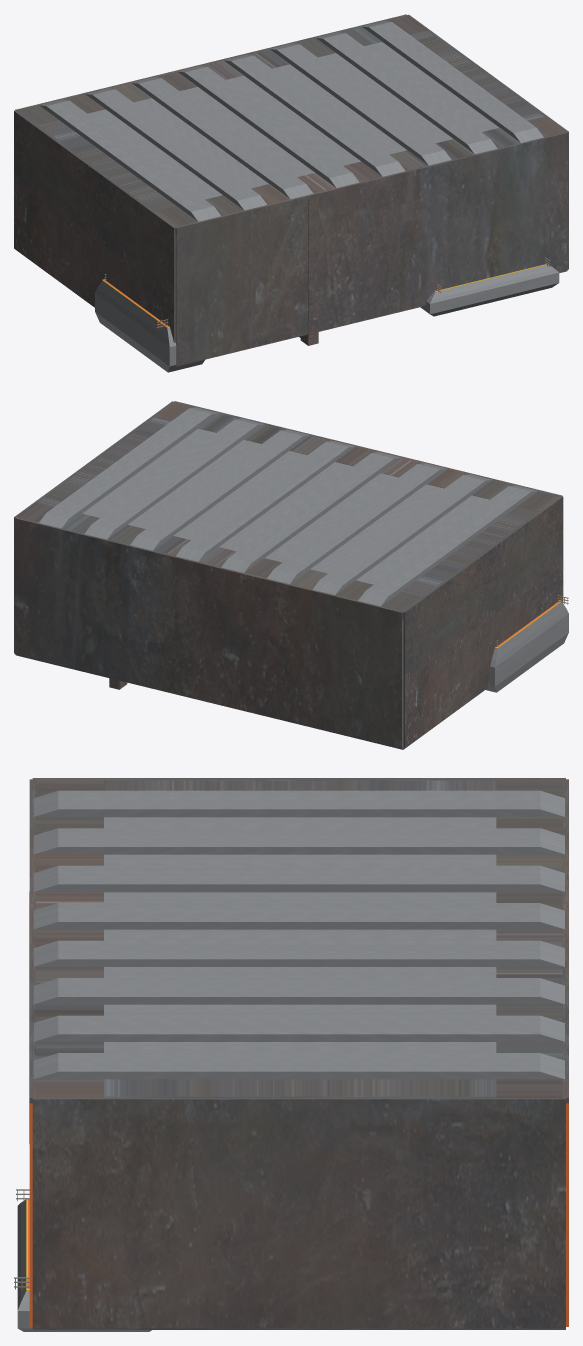
Rendered from biome_interior.fbx.
The picture shows the model from 3 angles, top to bottom: view 1: azimuth 30°, elevation 25°; view 2: azimuth 150°, elevation 25°; view 3: azimuth 270°, elevation 25°; orthographic projection. The views are drawn at different scales.
Parts seen in each view (by area): view 1: Wall_3, Roof, Wall_2, Wall_4, Platform12, Platform1, Wall_1, Wall_separation1; view 2: Wall_4, Roof, Wall_2, Wall_3, Platform12, Wall_1, Ground; view 3: Roof, Wall_1, Wall_3, Wall_4, Wall_2, Platform1, Ground.
Boxes of the visible parts, left/top/right/bottom form: Wall_3: left=154, top=116, right=568, bottom=365; Roof: left=39, top=21, right=543, bottom=221; Wall_2: left=14, top=110, right=176, bottom=342; Wall_4: left=14, top=14, right=427, bottom=125; Platform12: left=95, top=279, right=205, bottom=372; Platform1: left=420, top=264, right=559, bottom=316; Wall_1: left=408, top=14, right=568, bottom=269; Wall_separation1: left=299, top=196, right=318, bottom=345; Wall_4: left=14, top=502, right=423, bottom=748; Roof: left=39, top=407, right=537, bottom=606; Wall_2: left=401, top=496, right=563, bottom=748; Wall_3: left=153, top=401, right=562, bottom=511; Platform12: left=485, top=600, right=568, bottom=692; Wall_1: left=14, top=401, right=173, bottom=653; Ground: left=16, top=654, right=468, bottom=749; Roof: left=33, top=790, right=564, bottom=1079; Wall_1: left=32, top=1079, right=565, bottom=1328; Wall_3: left=29, top=779, right=103, bottom=1326; Wall_4: left=496, top=779, right=568, bottom=1326; Wall_2: left=32, top=778, right=565, bottom=790; Platform1: left=17, top=1199, right=151, bottom=1331; Ground: left=32, top=1328, right=565, bottom=1329.
Size of the model in its own units: 124 by 44.98 by 88.1.
